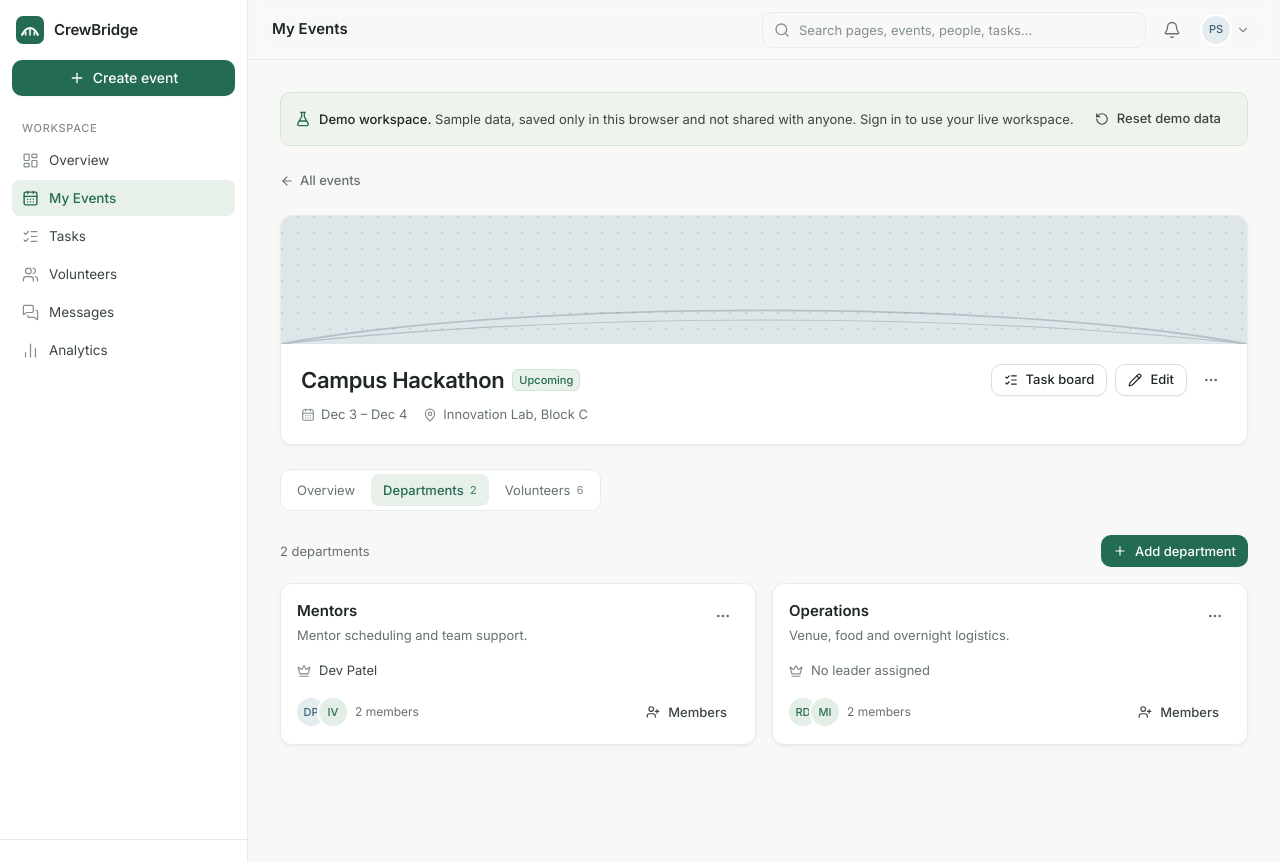
Events › adds a department from the event workspace
This screenshot has width=1280, height=862.
Step 1. Click the button "Add department" → x=1174, y=551, box x1=1101 y1=535 x2=1248 y2=567
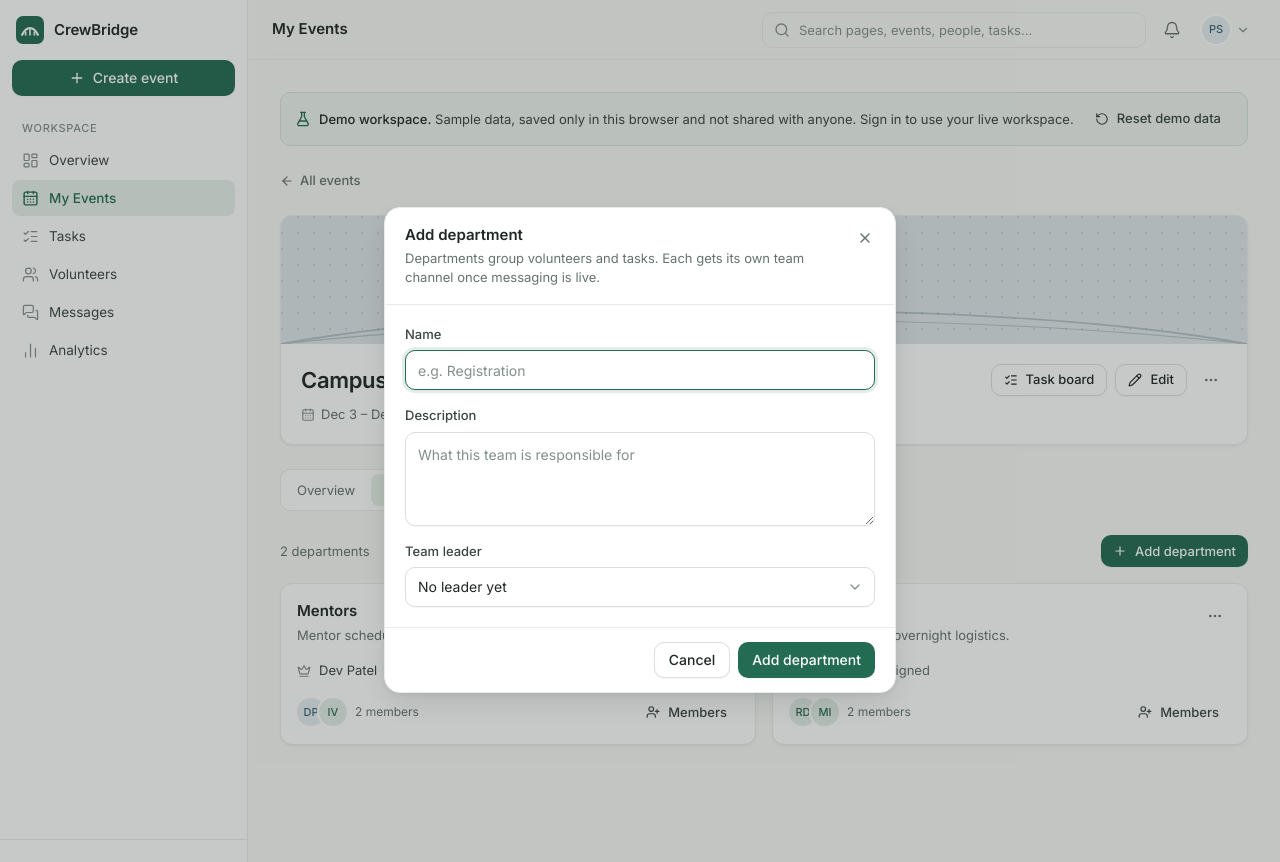
Step 2. Type "Judging" into the field labelled "Name" → x=640, y=370, box x1=405 y1=350 x2=875 y2=390
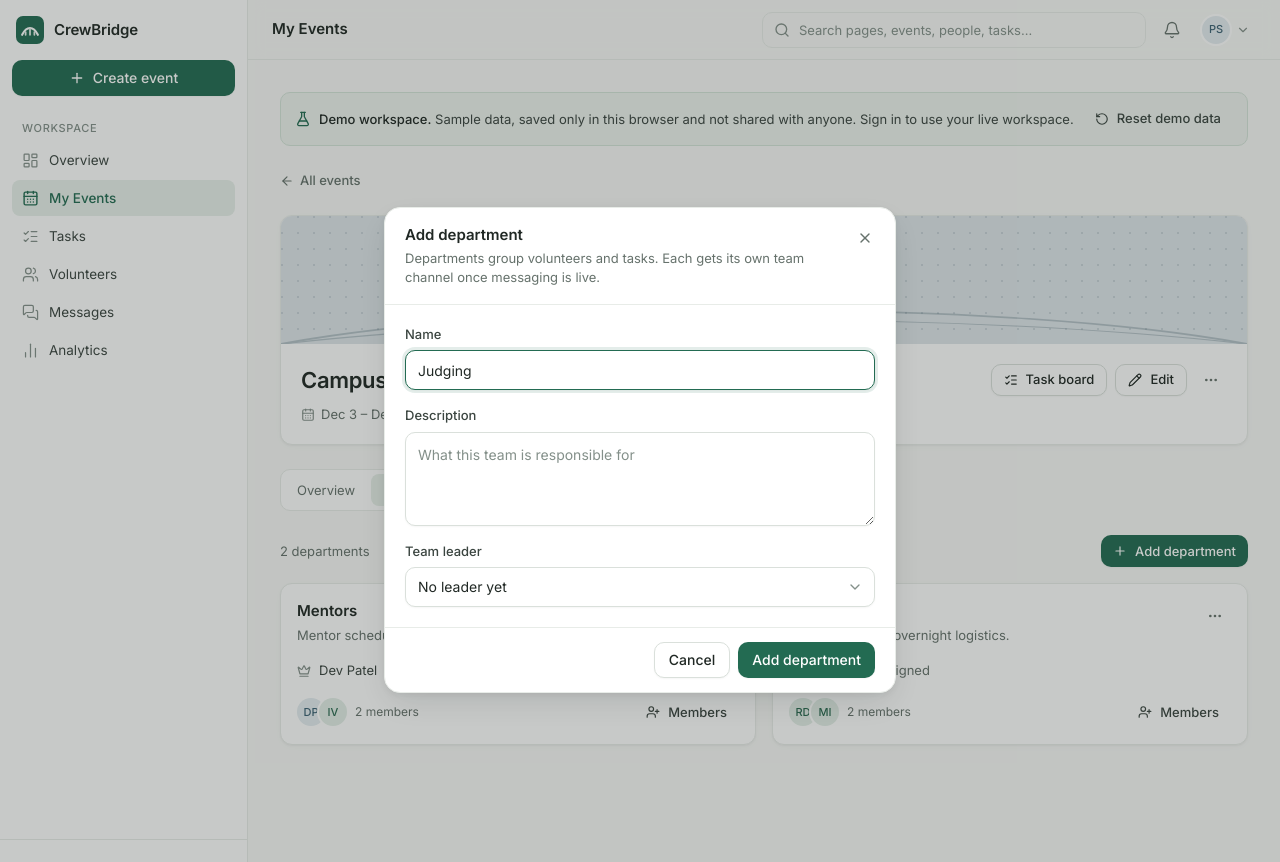
Step 3. Select "Kabir Rao" in the dropdown labelled "Team leader" → x=640, y=587, box x1=405 y1=567 x2=875 y2=607
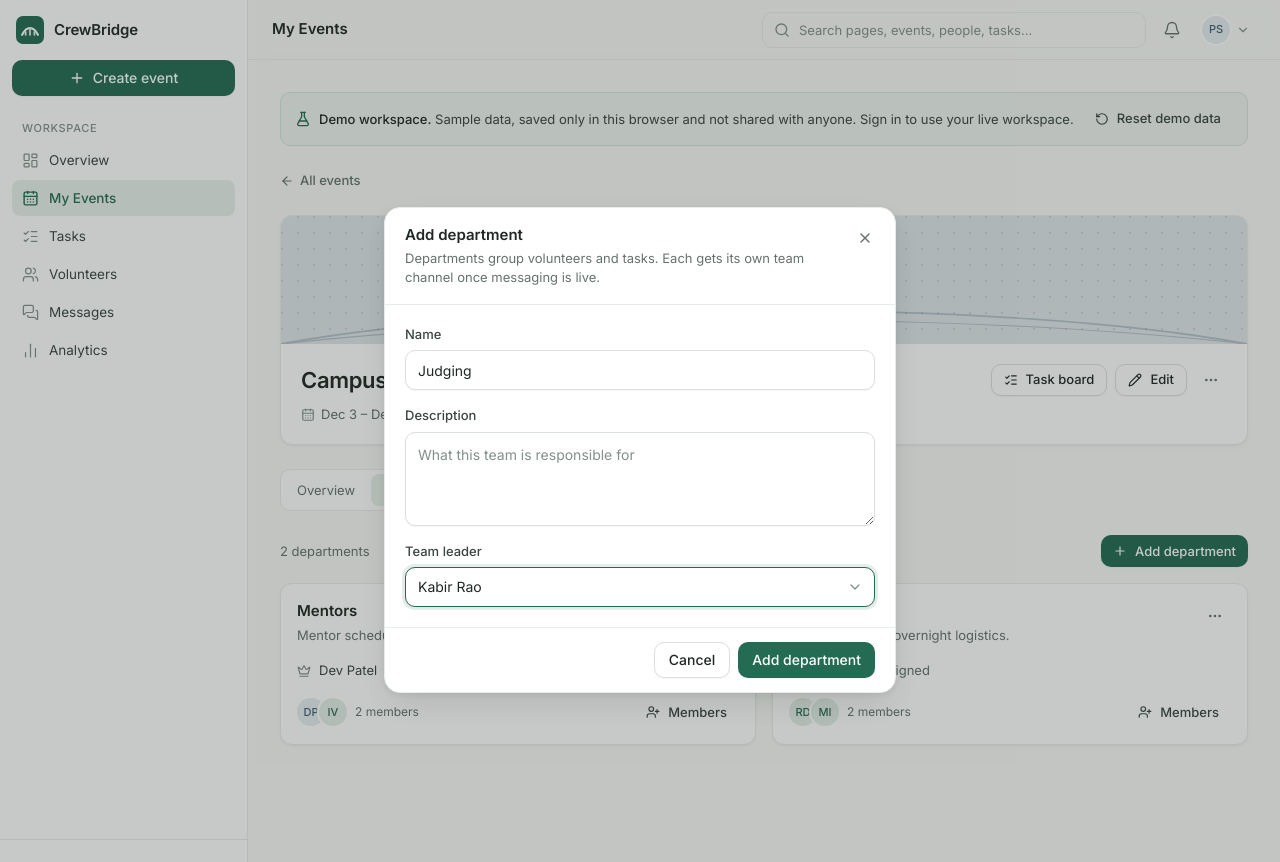
Step 4. Click the button "Add department" → x=807, y=660, box x1=738 y1=642 x2=875 y2=678
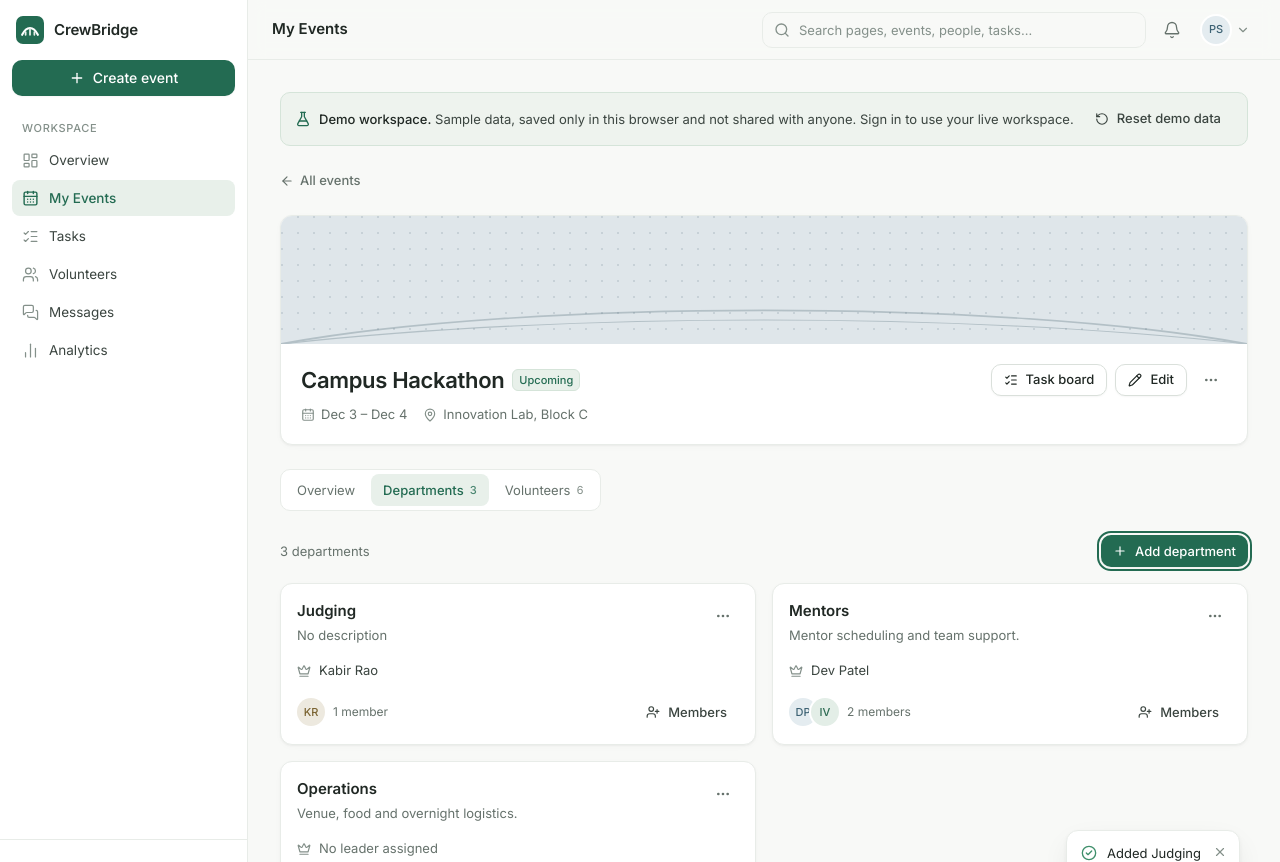
Now the heading "Judging" is shown, box x1=297 y1=601 x2=356 y2=620
Now the dialog is gone
